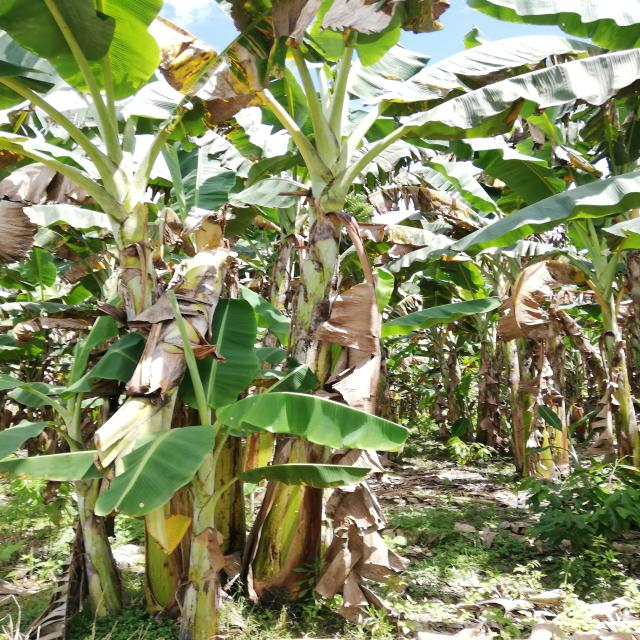Banana-plant: (245, 133, 408, 604), (84, 118, 192, 613), (582, 242, 640, 489)
